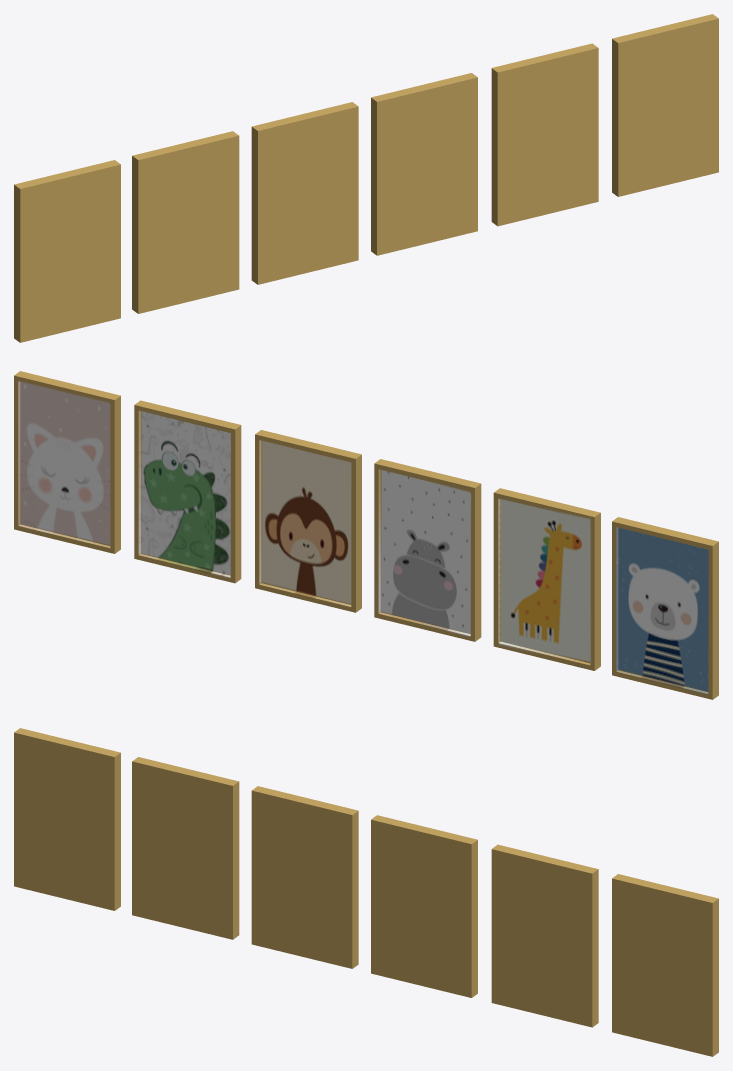
File: Quadros.fbx
The picture shows the model from 3 angles, top to bottom: view 1: azimuth 30°, elevation 25°; view 2: azimuth 150°, elevation 25°; view 3: azimuth 330°, elevation 25°; orthographic projection.
Parts seen in each view (by area): view 1: Frames; view 2: Frames; view 3: Frames.
Boxes of the visible parts, bbox=[...] form: Frames: bbox=[14, 14, 718, 342]; Frames: bbox=[14, 371, 718, 699]; Frames: bbox=[14, 728, 718, 1056].
Bounding box in the file's own units: 1808 × 381 × 27.86.
